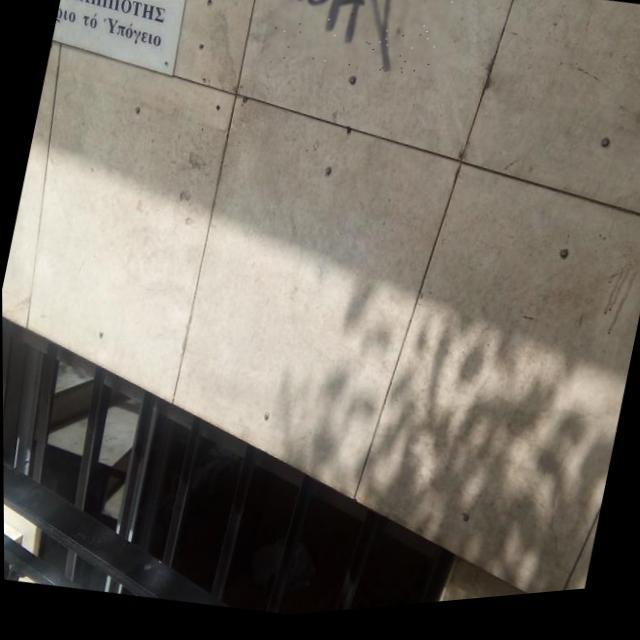-: (262, 0, 464, 99)
